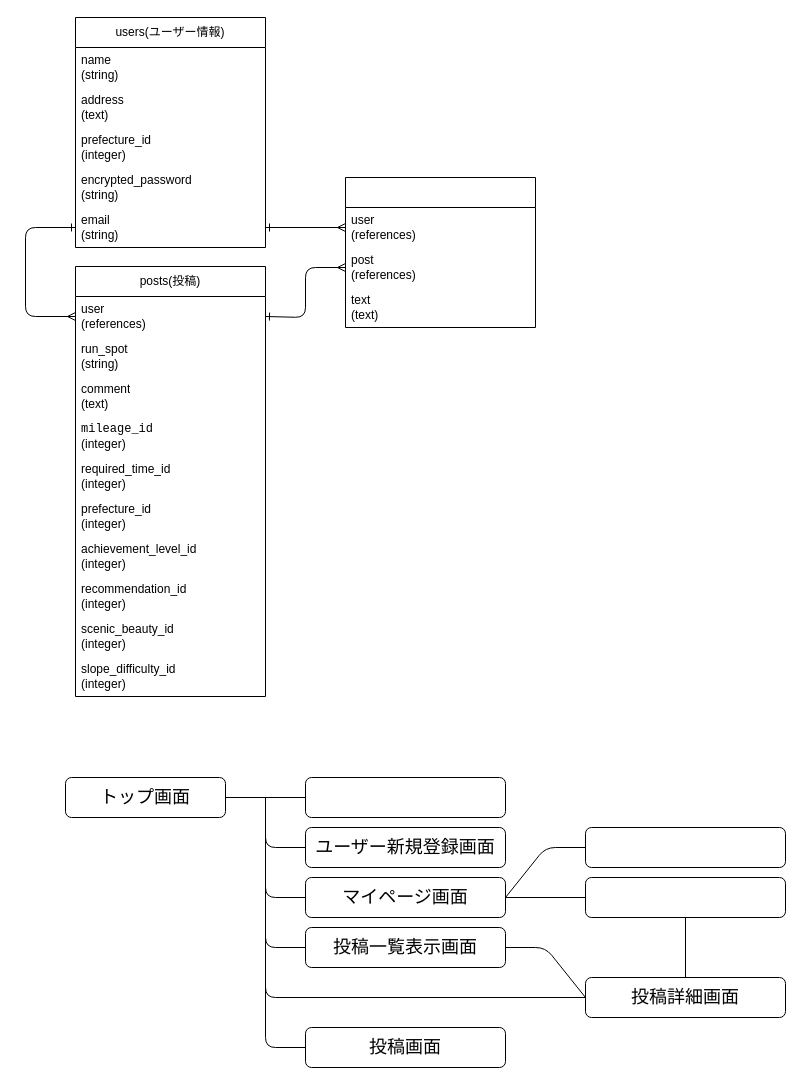
Image size: 803x1085. Some labels were removed from this diagram. Each missing label, with the box of its shape:
comments(コメント): (344, 176, 536, 328)
ユーザー情報編集画面: (584, 826, 786, 868)
ユーザー登録画面: (304, 776, 506, 818)
投稿編集画面: (584, 876, 786, 918)
